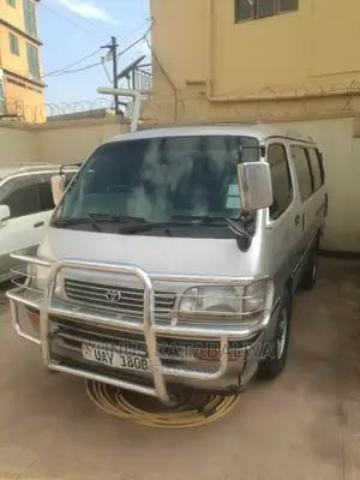van: (3, 123, 327, 403)
